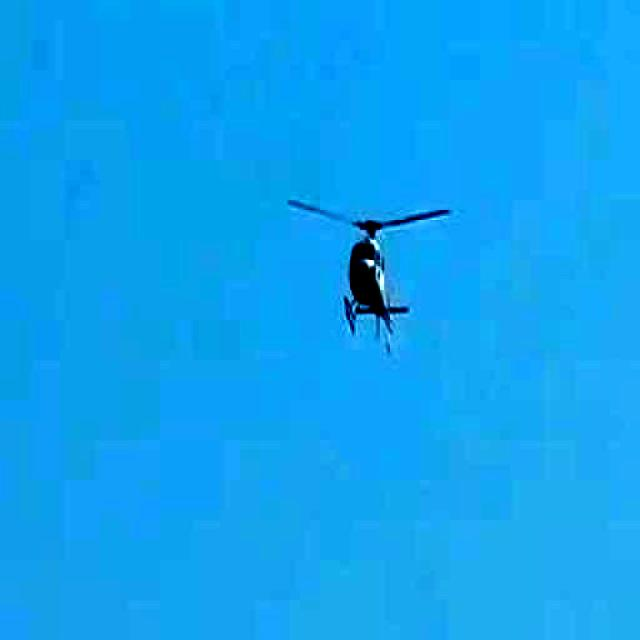drone: (284, 179, 454, 372)
